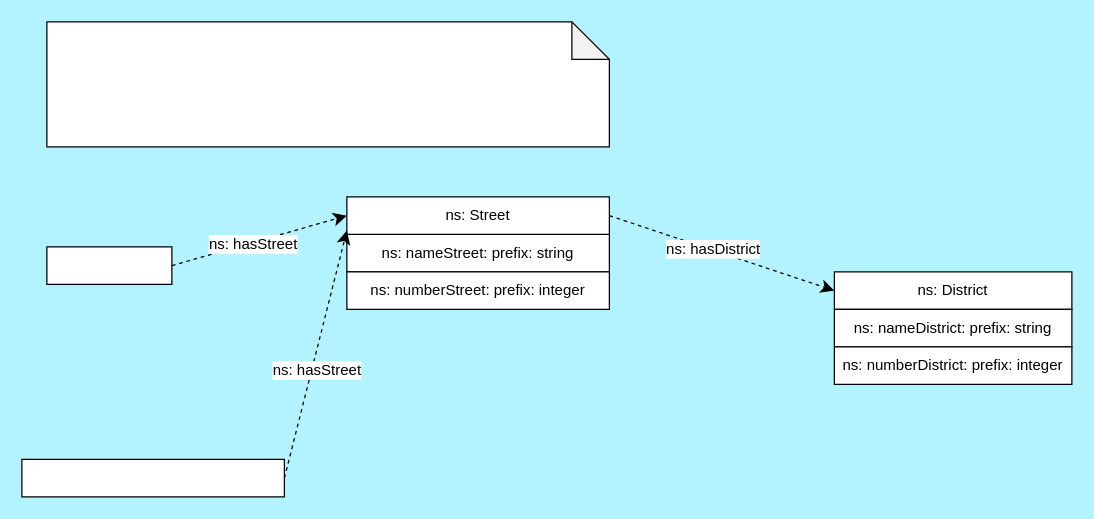
Image size: 1094x519. Some labels were removed from this diagram. Each missing label, with the centre of its shape:
"ns: Bar" goes at point (152, 477).
"ns: http://www.barnabikes.org/ODKG/handsOn/group10/" goes at point (327, 84).
"ns:BikingStation" goes at point (109, 265).
